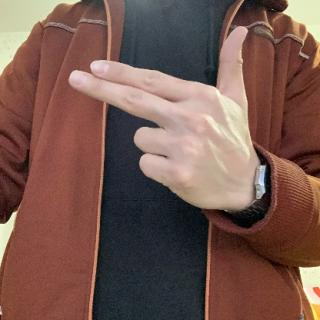GHAYN: (64, 22, 273, 214)
